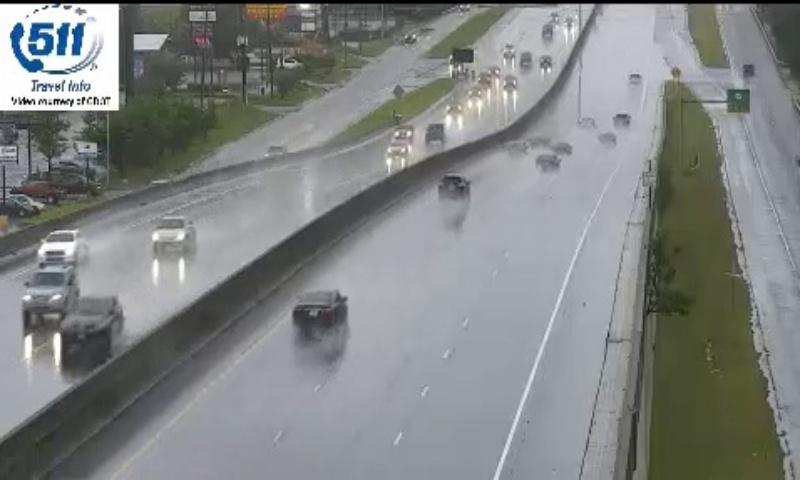car: (292, 289, 346, 331), (438, 173, 471, 198)
